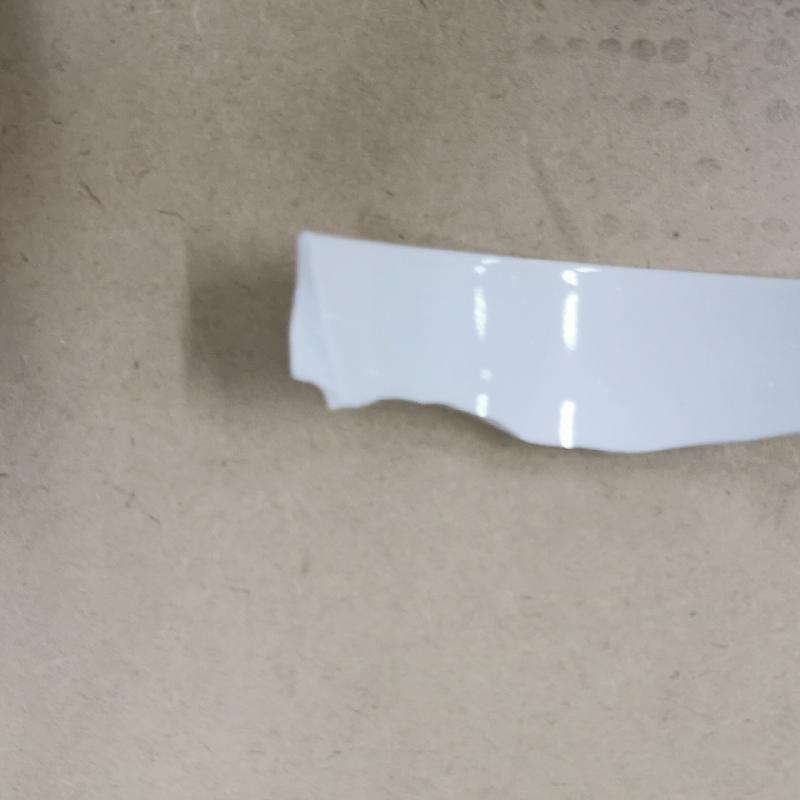ceram: (290, 216, 800, 462)
